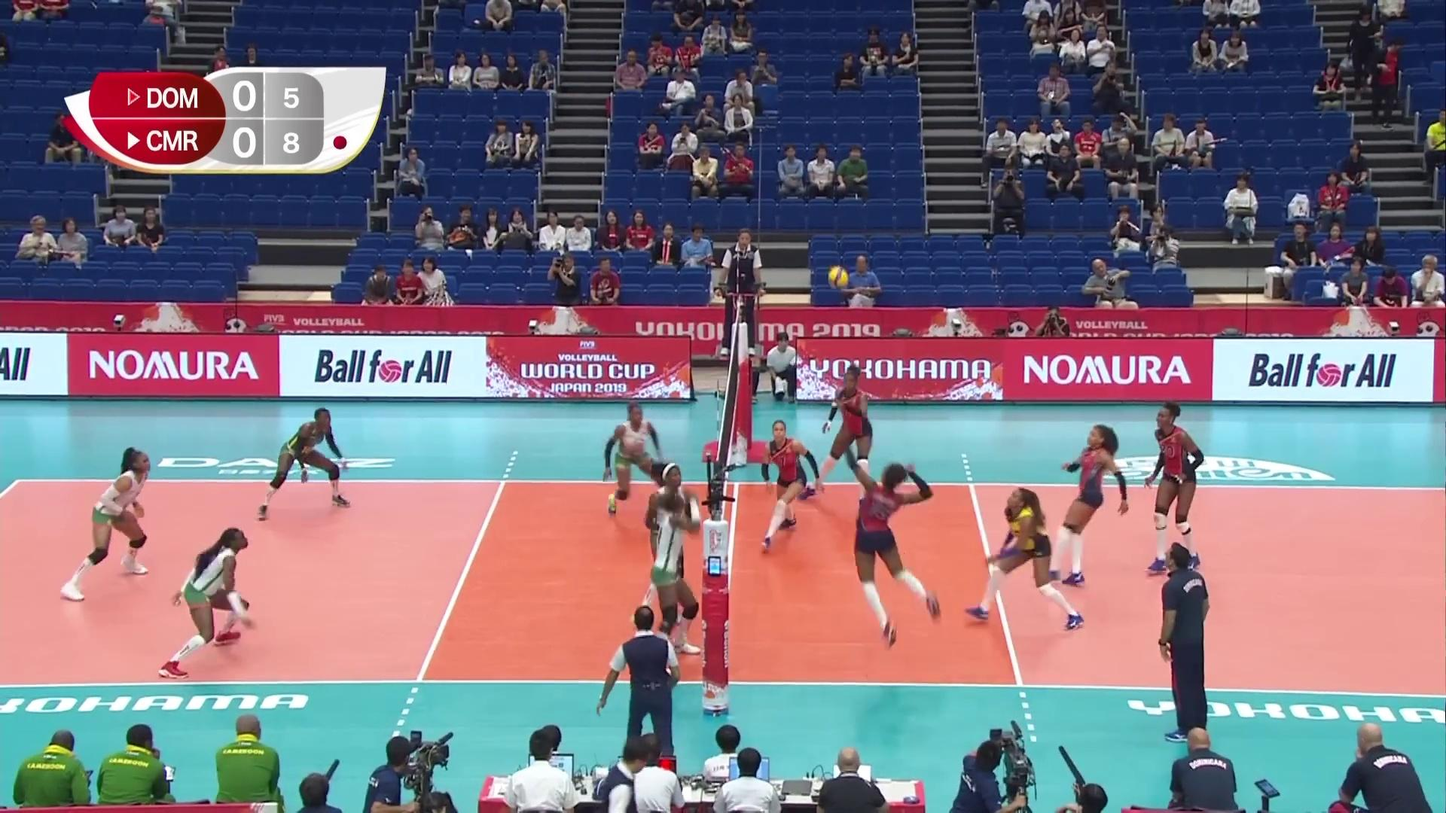player: (847, 455, 941, 643), (967, 488, 1082, 631), (57, 449, 154, 602), (1038, 426, 1128, 584), (161, 528, 252, 680), (804, 366, 882, 504), (1143, 404, 1205, 574), (256, 409, 349, 519), (638, 459, 694, 622), (605, 403, 686, 513), (649, 490, 700, 664), (761, 422, 823, 555)
refree: (599, 606, 683, 789), (716, 227, 762, 355)
